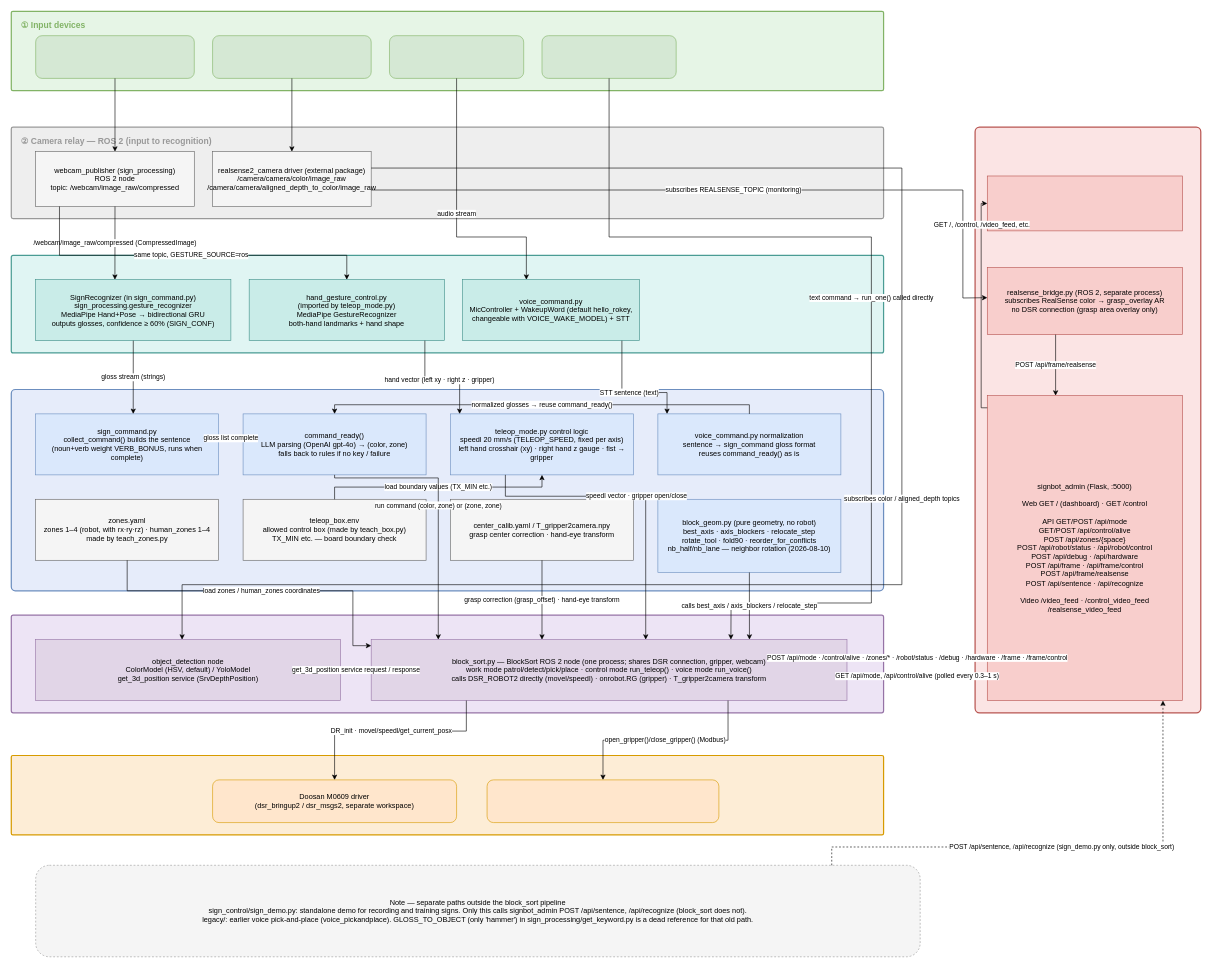
This 1211x967 diagram has some shape labels left out. The box of each missing label's shape, as (x1, y1, x2, y2) in pixels:
Admin web browser (dashboard · control view): (987, 175, 1182, 231)
CLI text input: (541, 35, 676, 78)
Intel RealSense D435i (on the gripper: robot view and object detection): (212, 35, 371, 78)
Microphone (voice mode wake word + STT): (389, 35, 524, 78)
OnRobot RG2 gripper Modbus TCP 192.168.1.1:502: (486, 779, 719, 823)
Webcam (shared input: signs and hand gestures): (35, 35, 194, 78)
③ Recognition — frames to symbols: (10, 254, 884, 353)
④ Interpretation & mapping — symbols to robot commands: (10, 389, 884, 591)
⑤ Execution — ROS 2 layer (detection · robot control): (10, 614, 884, 713)
⑥ Robot hardware: (10, 755, 884, 835)
⑦ Admin monitoring — signbot_admin (talks to every layer): (974, 126, 1201, 713)
